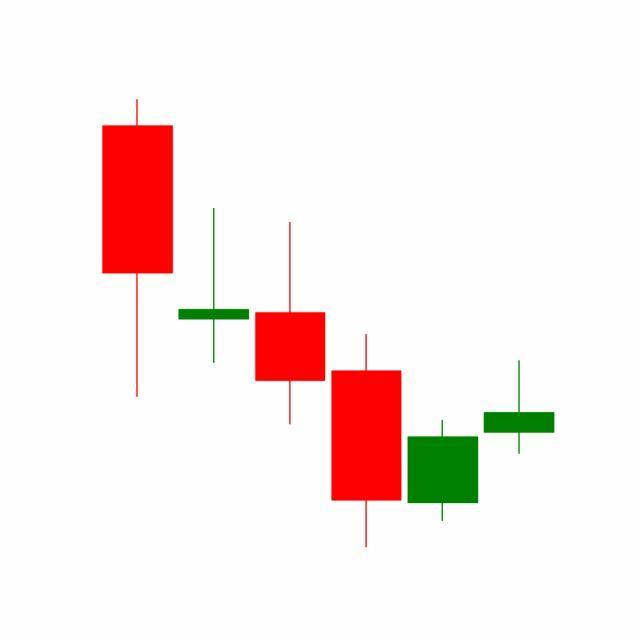Hikkake Pattern: (175, 204, 555, 549)
